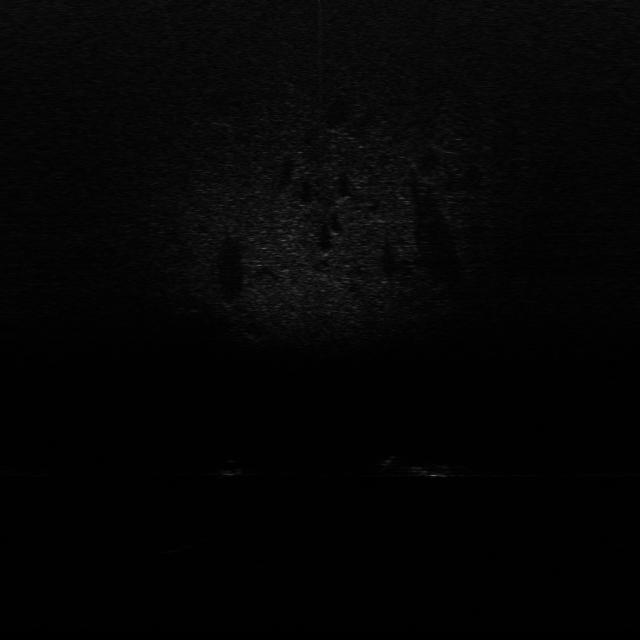ball: (217, 458, 247, 479)
circle cage: (146, 533, 213, 563)
human body: (360, 454, 494, 482)
